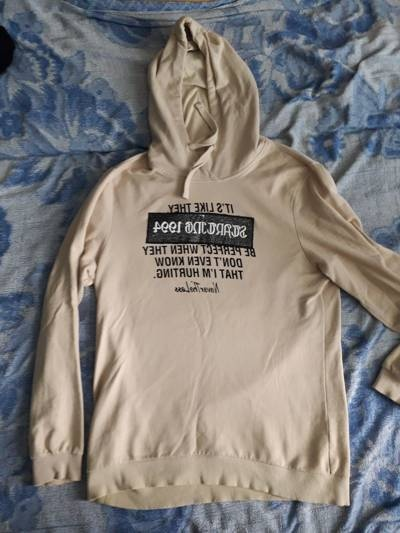Hoodie: (16, 27, 397, 525)
